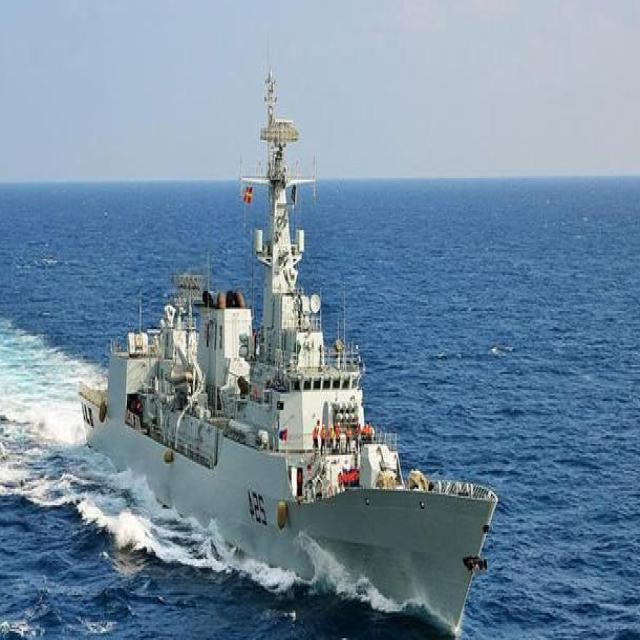navalvessels: (64, 76, 507, 624)
